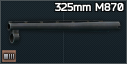M870 12ga cut off 325mm barrell: (0, 0, 127, 64)
